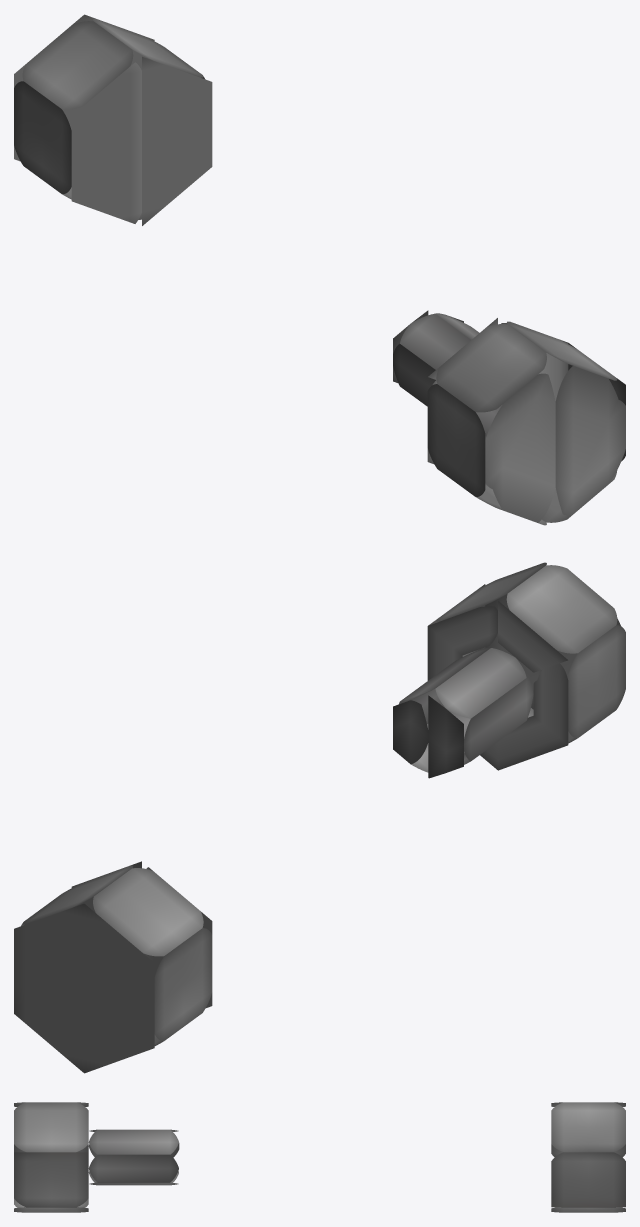
Rendered from blockholder.obj.
3 views of the same model, one above another, from view 1: azimuth 30°, elevation 25°; view 2: azimuth 150°, elevation 25°; view 3: azimuth 270°, elevation 25° (orthographic). The views are drawn at different scales.
Parts seen in each view (by area): view 1: blockholder; view 2: blockholder; view 3: blockholder.
Boxes of the visible parts, x1=… form: blockholder: x1=14, y1=14, x2=625, y2=525; blockholder: x1=14, y1=562, x2=625, y2=1073; blockholder: x1=14, y1=1102, x2=625, y2=1212.
Size of the model in its own units: 0.2825 by 0.3262 by 1.64.
